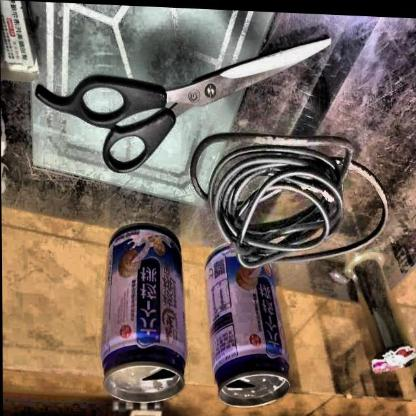Can: (97, 218, 191, 410), (200, 242, 290, 414)
